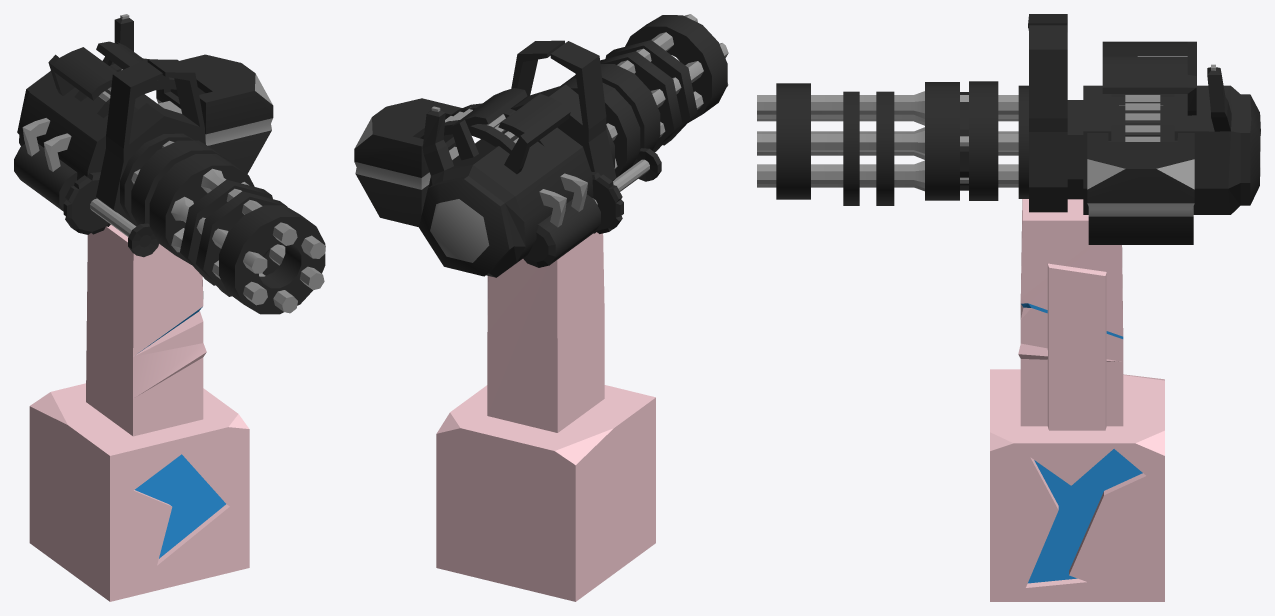
Rendered from Gatling_Gun.FBX.
3 renders of one model, left to right at view 1: azimuth 30°, elevation 25°; view 2: azimuth 150°, elevation 25°; view 3: azimuth 270°, elevation 25°, orthographic. The views are drawn at different scales.
Parts seen in each view (by area): view 1: Gatling_Gun_Tower, Gatling_Gun; view 2: Gatling_Gun_Tower, Gatling_Gun; view 3: Gatling_Gun, Gatling_Gun_Tower.
Boxes of the visible parts, x1,y1,x2,y2 form: Gatling_Gun_Tower: (29, 225, 249, 601); Gatling_Gun: (14, 14, 325, 314); Gatling_Gun_Tower: (436, 232, 655, 601); Gatling_Gun: (354, 14, 728, 277); Gatling_Gun: (757, 14, 1260, 244); Gatling_Gun_Tower: (990, 199, 1164, 601).
Size of the model in its own units: 1.7 by 3.8 by 3.21.
